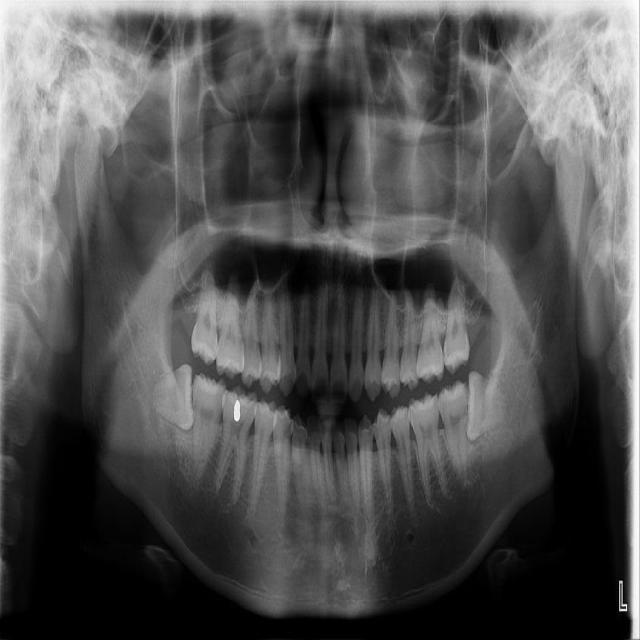52: (212, 380, 263, 437)
73: (622, 616, 630, 622)
BioHorizons Implant: (441, 266, 477, 377)
Biomet 3i Implant: (463, 370, 509, 442)
Blue Sky Bio Implant: (437, 379, 468, 489)
Caries: (189, 258, 219, 367)
Implant: (192, 373, 227, 482)
Keystone Dental Implant: (149, 364, 196, 431)
